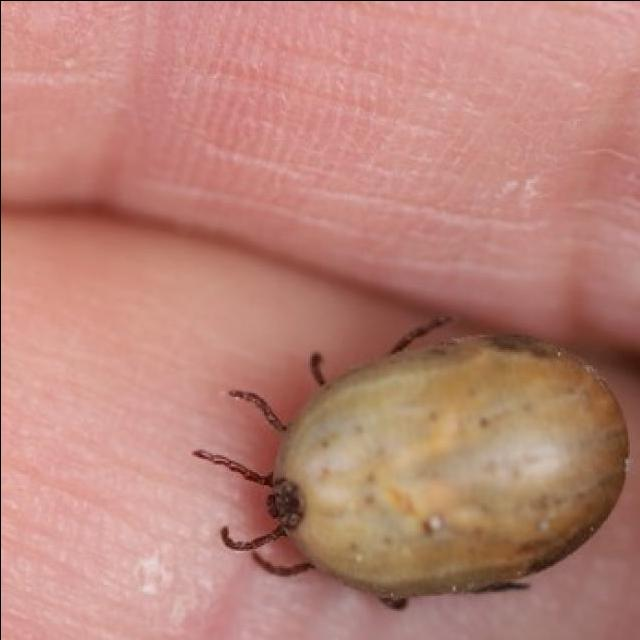Dermacentor Reticulatus-F-Fed: (191, 315, 627, 610)
